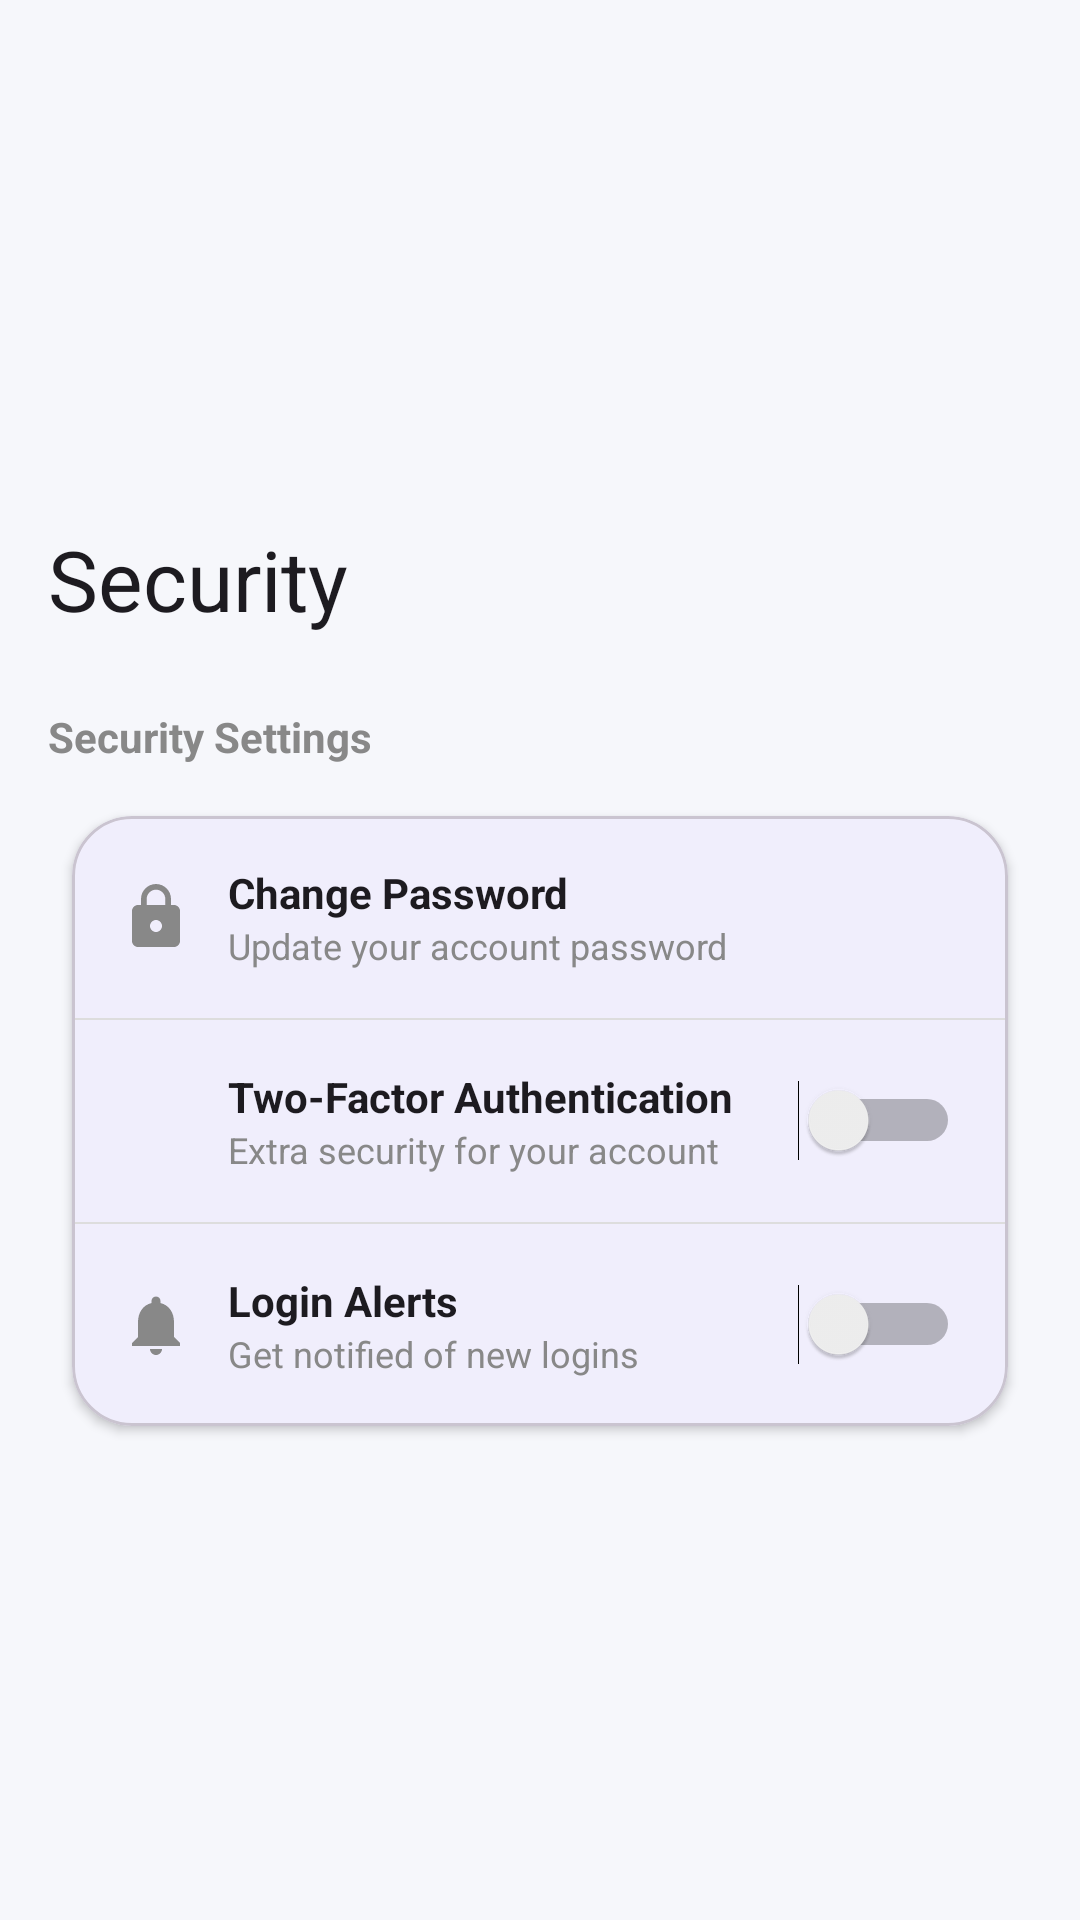

Named icons in this screenshot (1080px x 1920px) and their bounding boxes, rect(x1, y1, x2, y2):
lock: rect(132, 884, 180, 947)
notifications: rect(132, 1296, 180, 1355)
